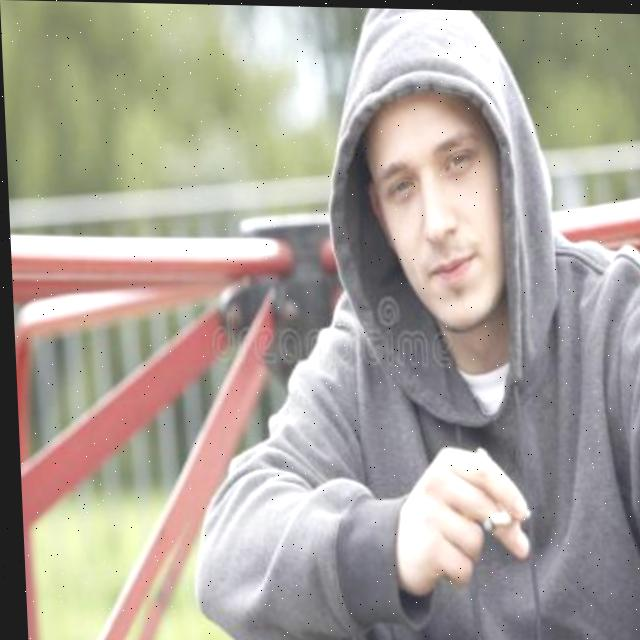cigarette: (477, 505, 527, 534)
